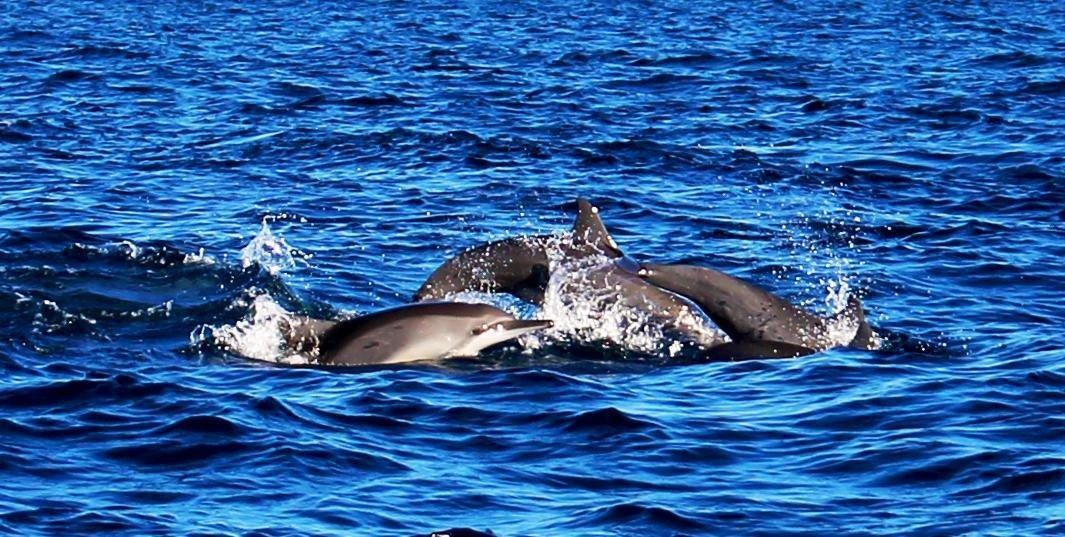fish: (575, 211, 917, 357), (354, 188, 637, 300), (299, 306, 554, 368)
